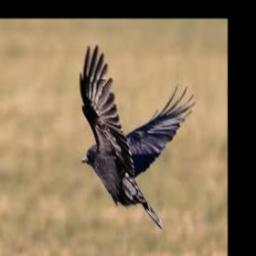Crow: (80, 44, 197, 228)
